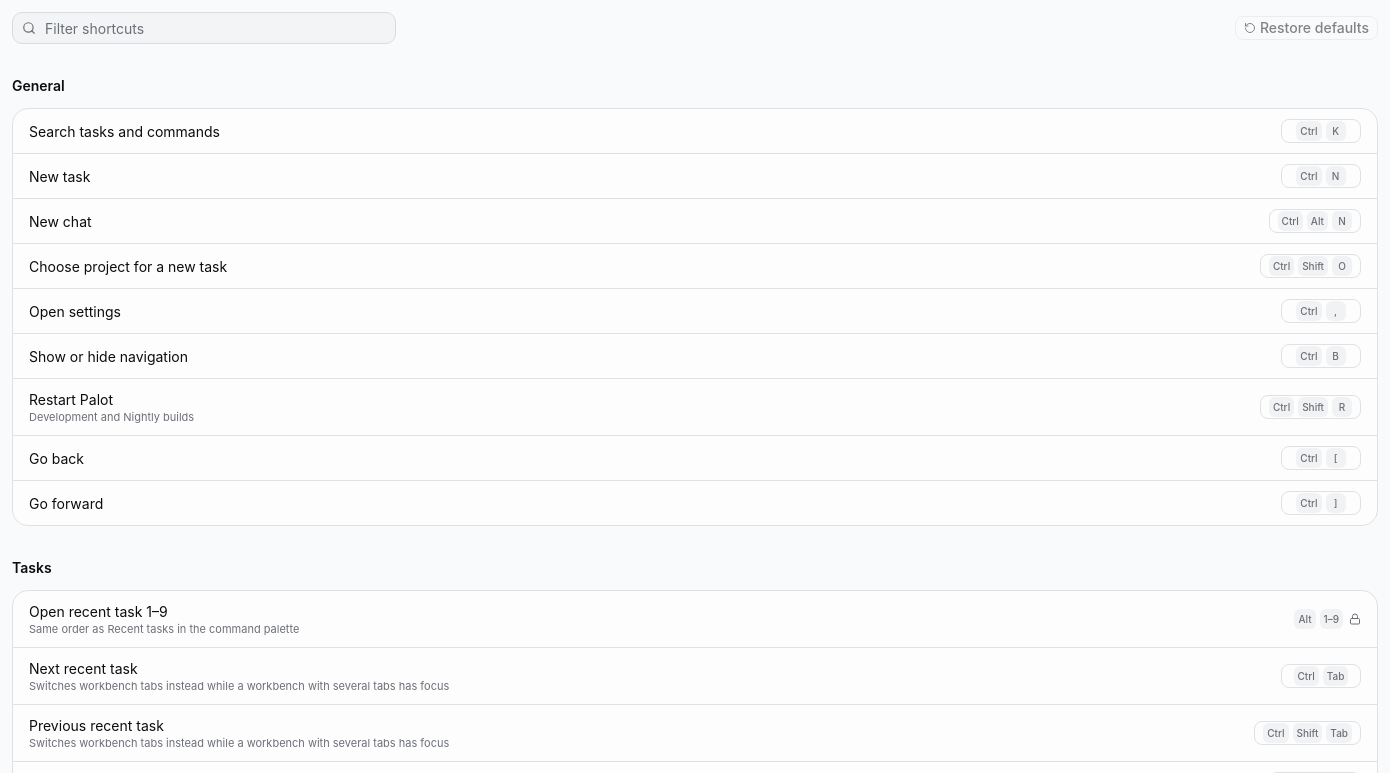
Scenario: KeyboardShortcutsSettings › filters the reference by label and keeps matches under their group
The image size is (1390, 773).
Type "cycle agent" into the search field named "Filter keyboard shortcuts" at (204, 28), box [12, 12, 396, 44]
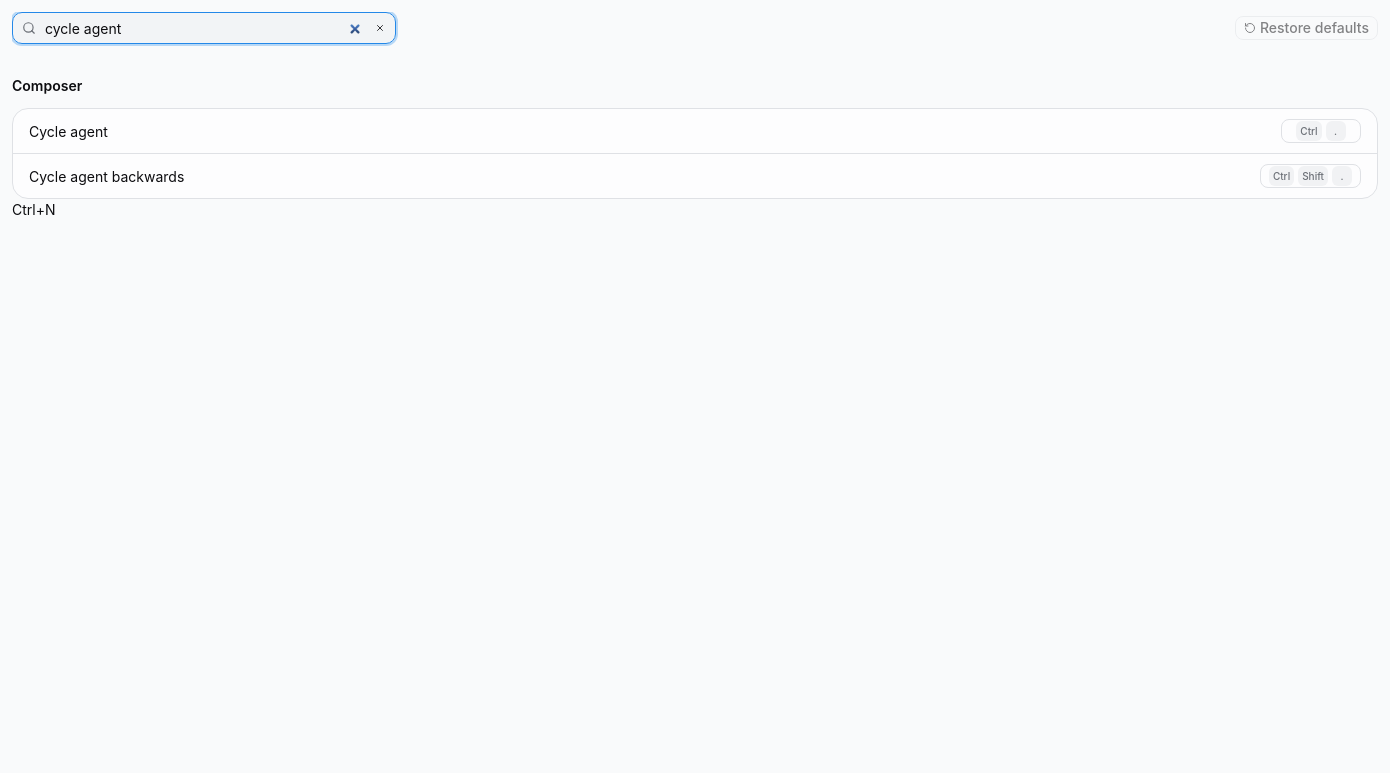
Expected: the headings read "Composer", in this order, [12, 76, 82, 96]
Expected: the text "Cycle agent" is shown, [29, 122, 108, 140]
Expected: the text "Cycle agent backwards" is shown, [29, 168, 184, 184]
Replace the text in the search field named "Filter keyboard shortcuts" with "no such shortcut" at (204, 28), box [12, 12, 396, 44]
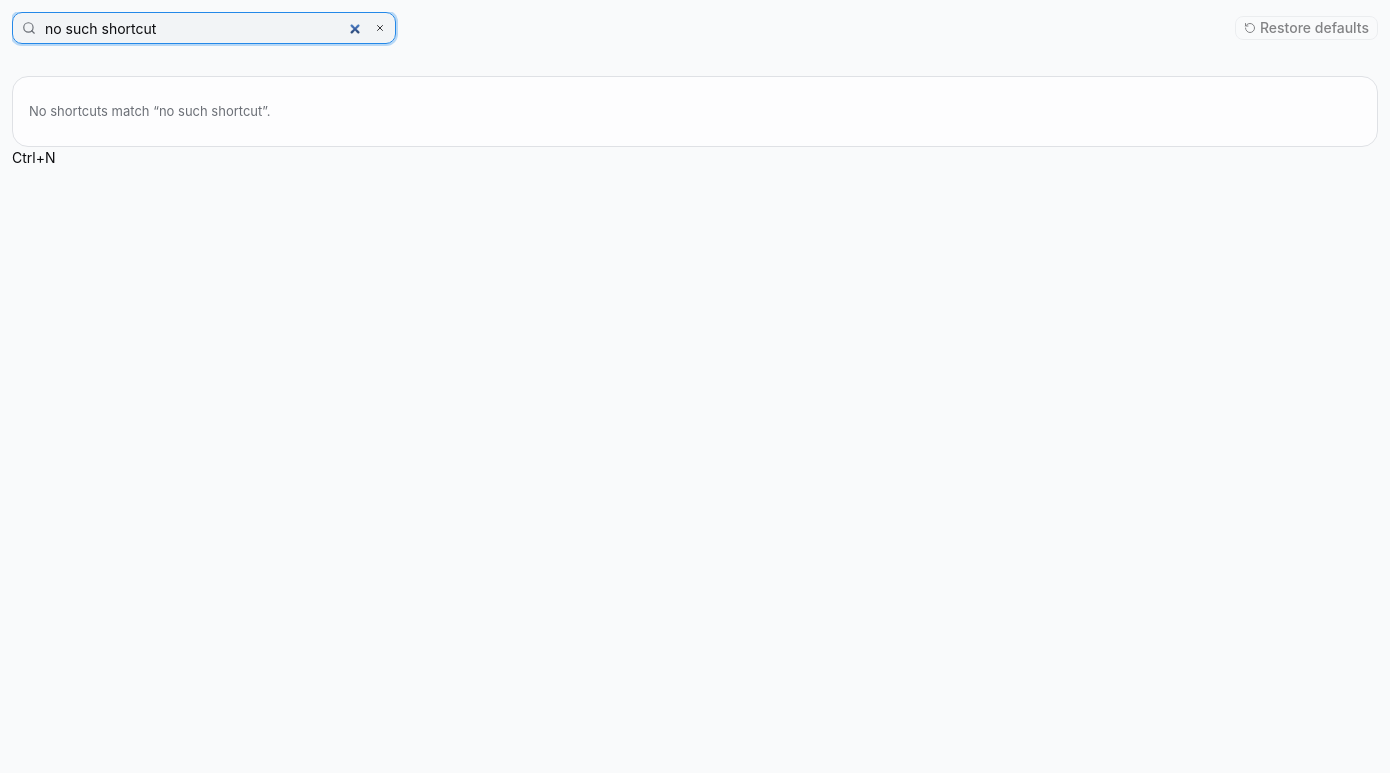
Expected: the text "No shortcuts match “no such shortcut”." is shown, [29, 103, 270, 119]
